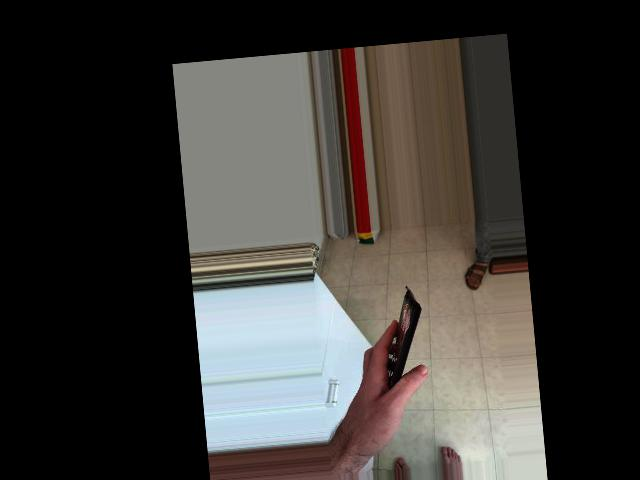chocolate: (368, 285, 436, 401)
